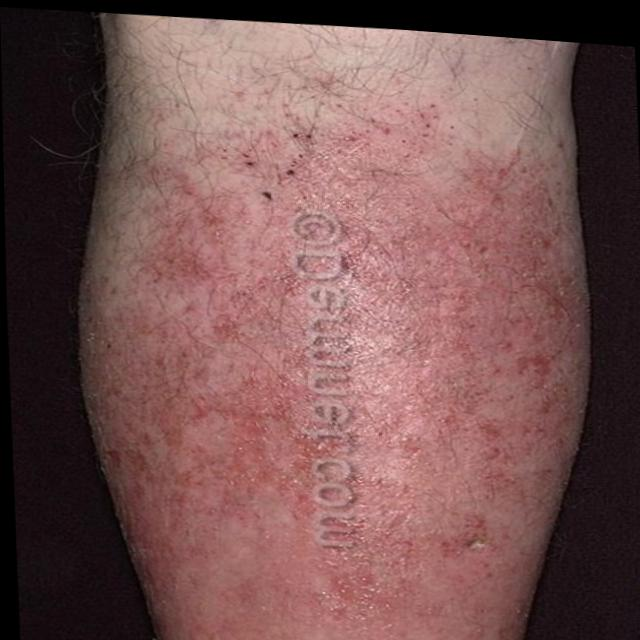Eczema: (108, 132, 519, 640)
